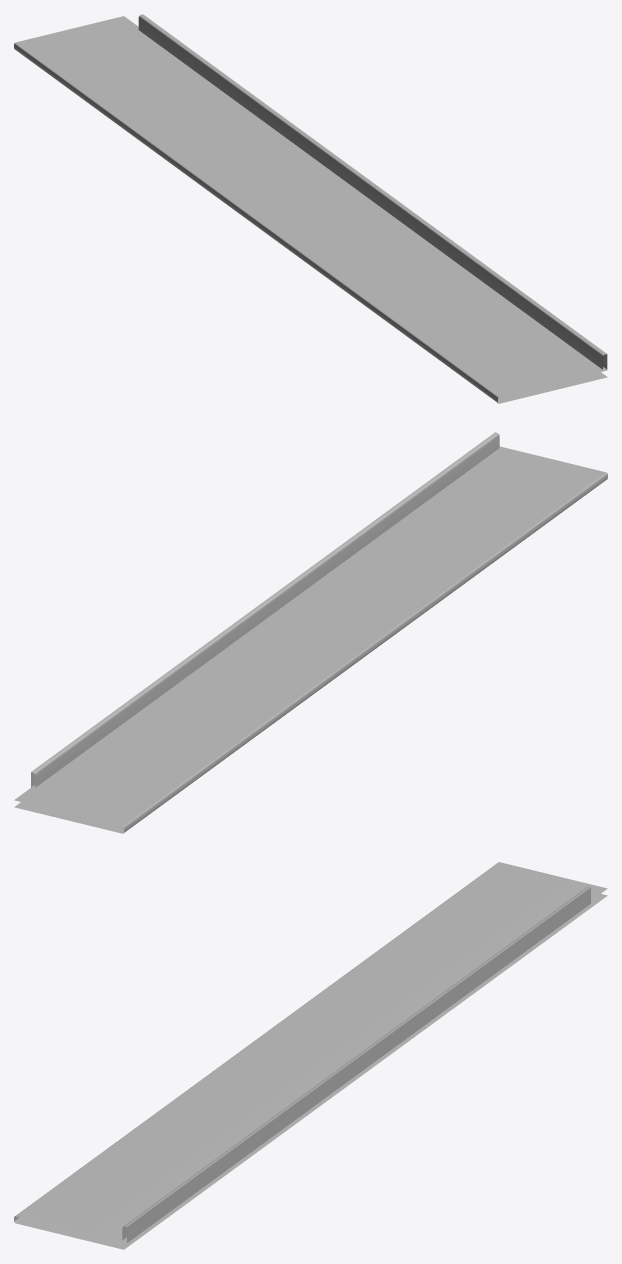
File: wood_window.fbx
The picture shows the model from 3 angles, top to bottom: view 1: azimuth 30°, elevation 25°; view 2: azimuth 150°, elevation 25°; view 3: azimuth 330°, elevation 25°; orthographic projection.
Visible parts, largest first — view 1: wood_window; view 2: wood_window; view 3: wood_window.
Boxes of the visible parts, x1=… form: wood_window: x1=14, y1=14, x2=607, y2=403; wood_window: x1=14, y1=432, x2=607, y2=833; wood_window: x1=14, y1=862, x2=607, y2=1249.
Bounding box in the file's own units: 49.74 × 9.28 × 375.
